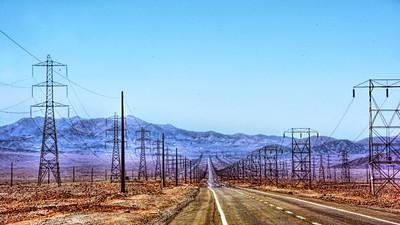power_tower: (29, 50, 73, 186), (280, 124, 320, 191), (104, 111, 127, 182), (135, 121, 153, 183), (152, 134, 162, 181)
